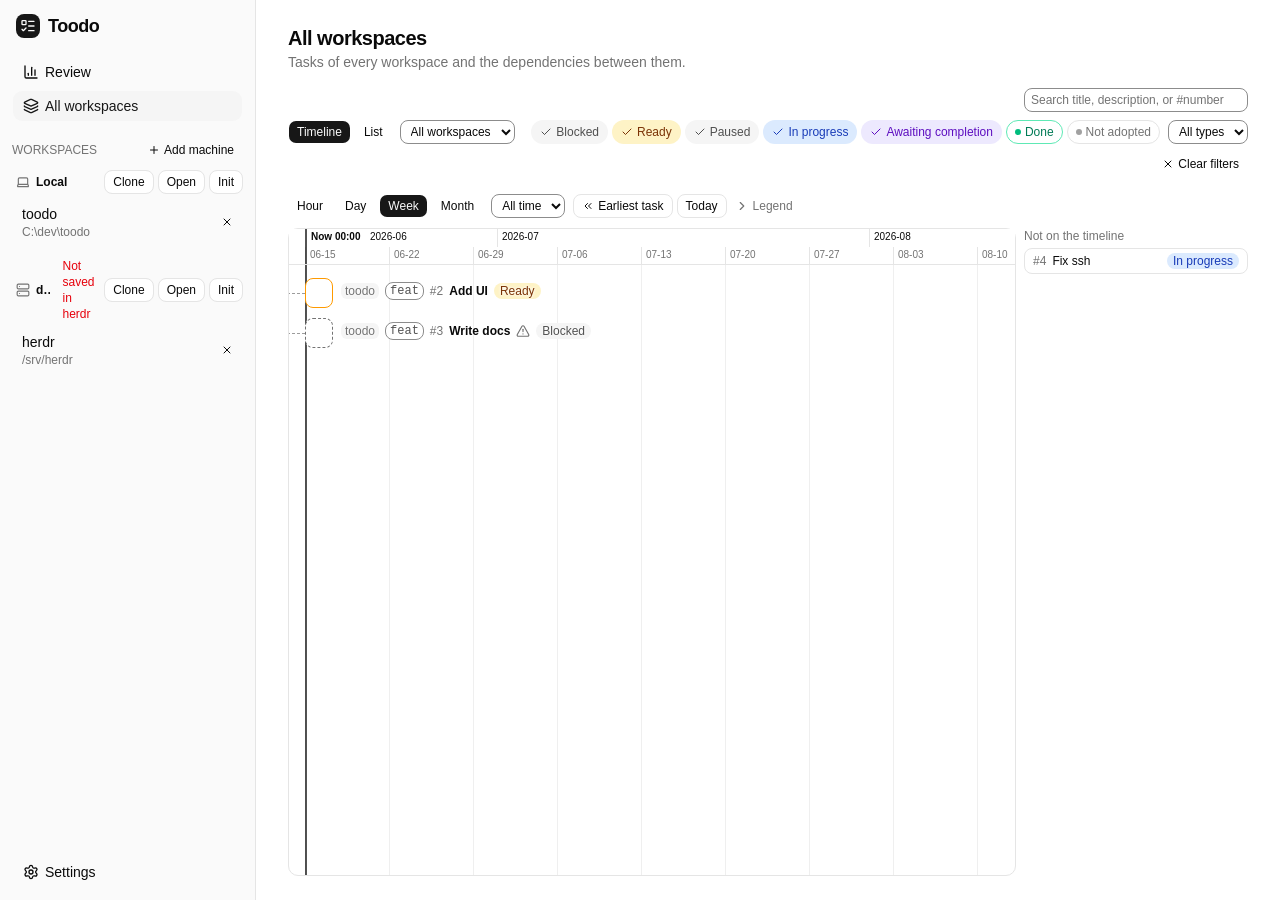
Test: App › filters the tasks that can be started now in the list and on the timeline
What coordinates should you click on to do the following:
click the button "toodo C:\\dev\\toodo"
I would click on:
 (114, 222)
Its box is [12,198,215,246].
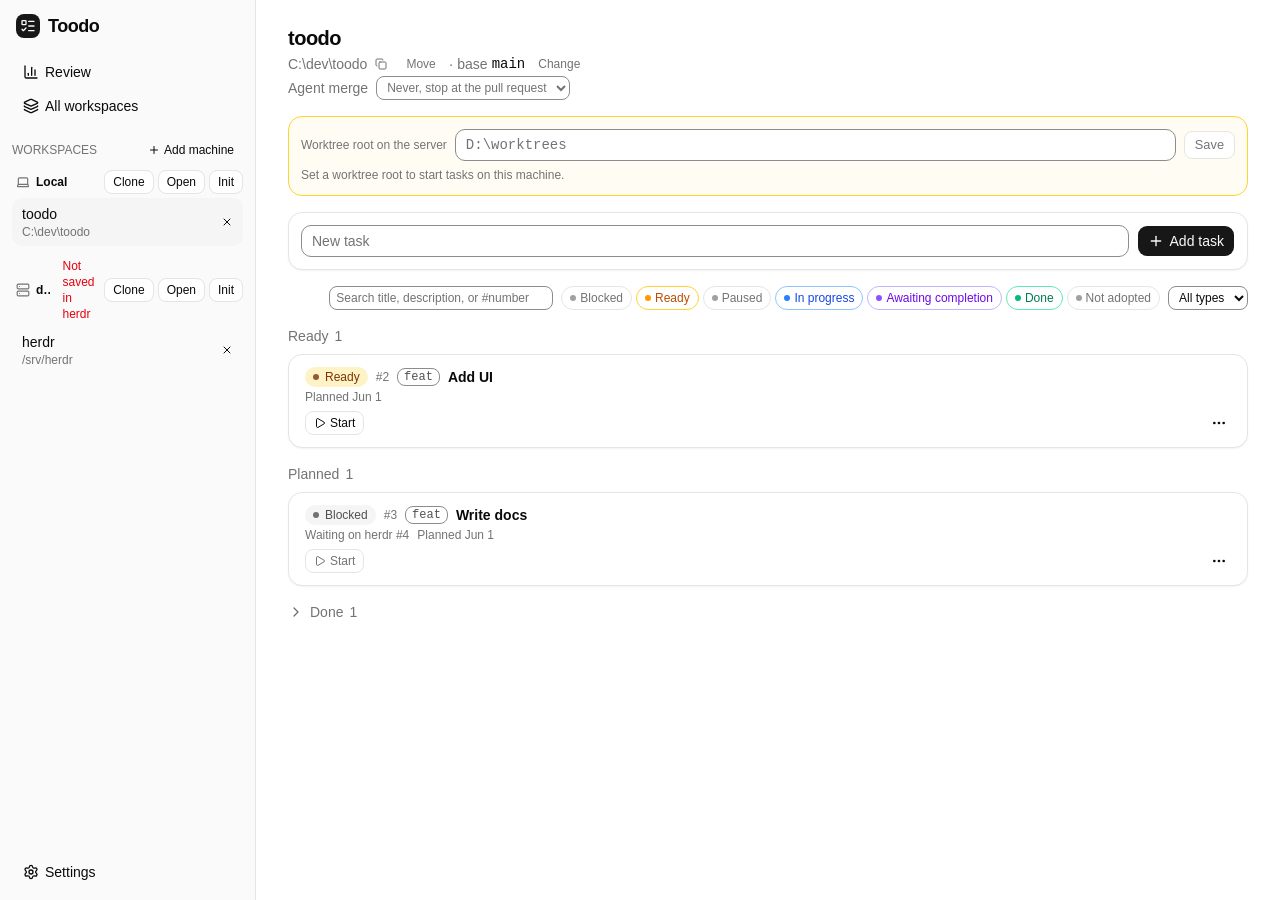
Expected: the button "Add UI" is shown, [448,367,1231,387]
Expected: the text "Ready" is shown, [305,367,368,387]
What coordinates should you click on to do the following:
click the button "Ready"
I would click on:
 (667, 298)
Its box is [636,286,699,310].
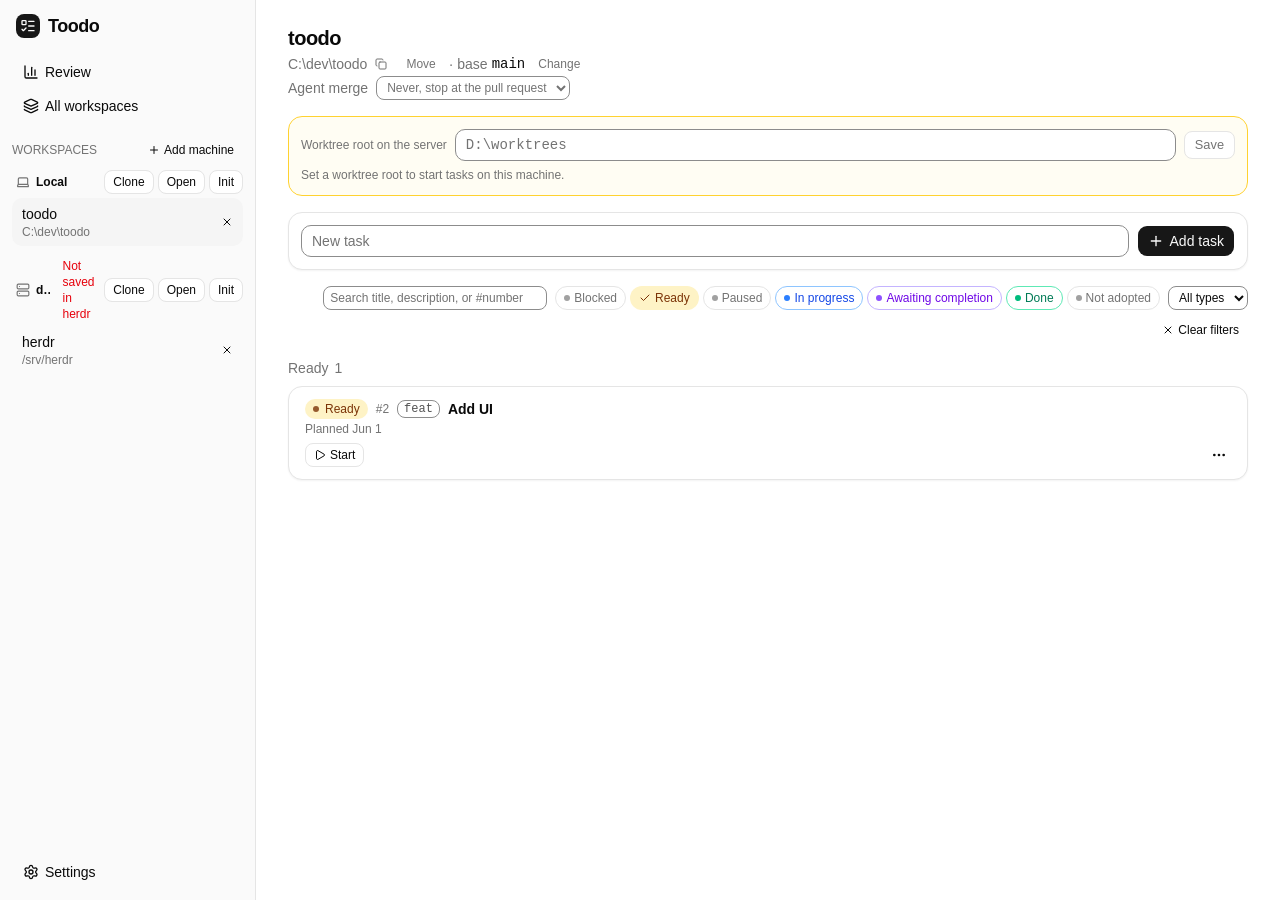
Expected: the button "Add UI" is shown, [448,399,1231,419]
What coordinates should you click on to do the following:
click the button "All workspaces"
I would click on:
 (128, 106)
Its box is [12,90,243,122].
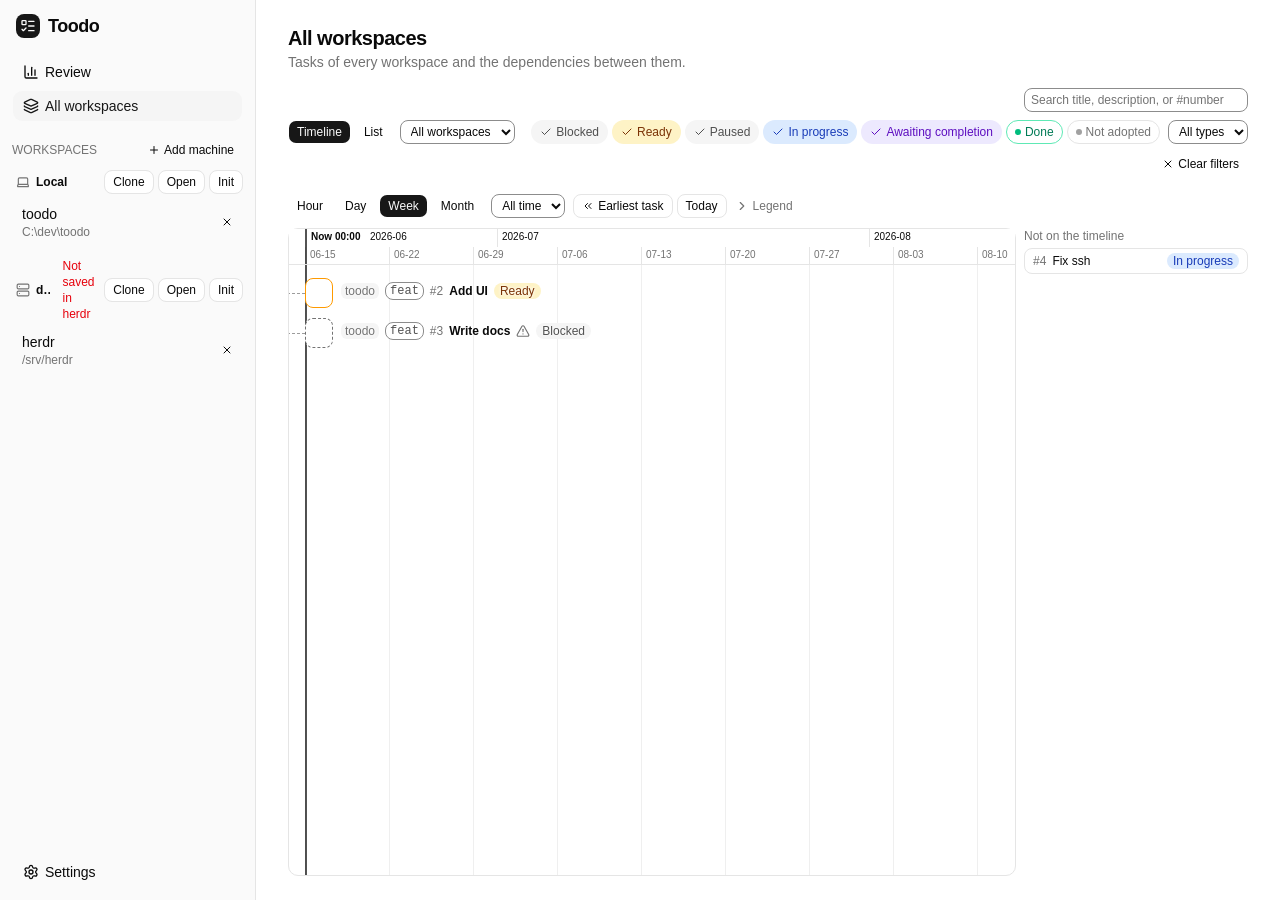
Expected: the text "Write docs" is shown, [449,323,510,339]
What coordinates should you click on to do the following:
click the button "Clear filters"
I would click on:
 (1201, 164)
Its box is [1153,152,1248,176].
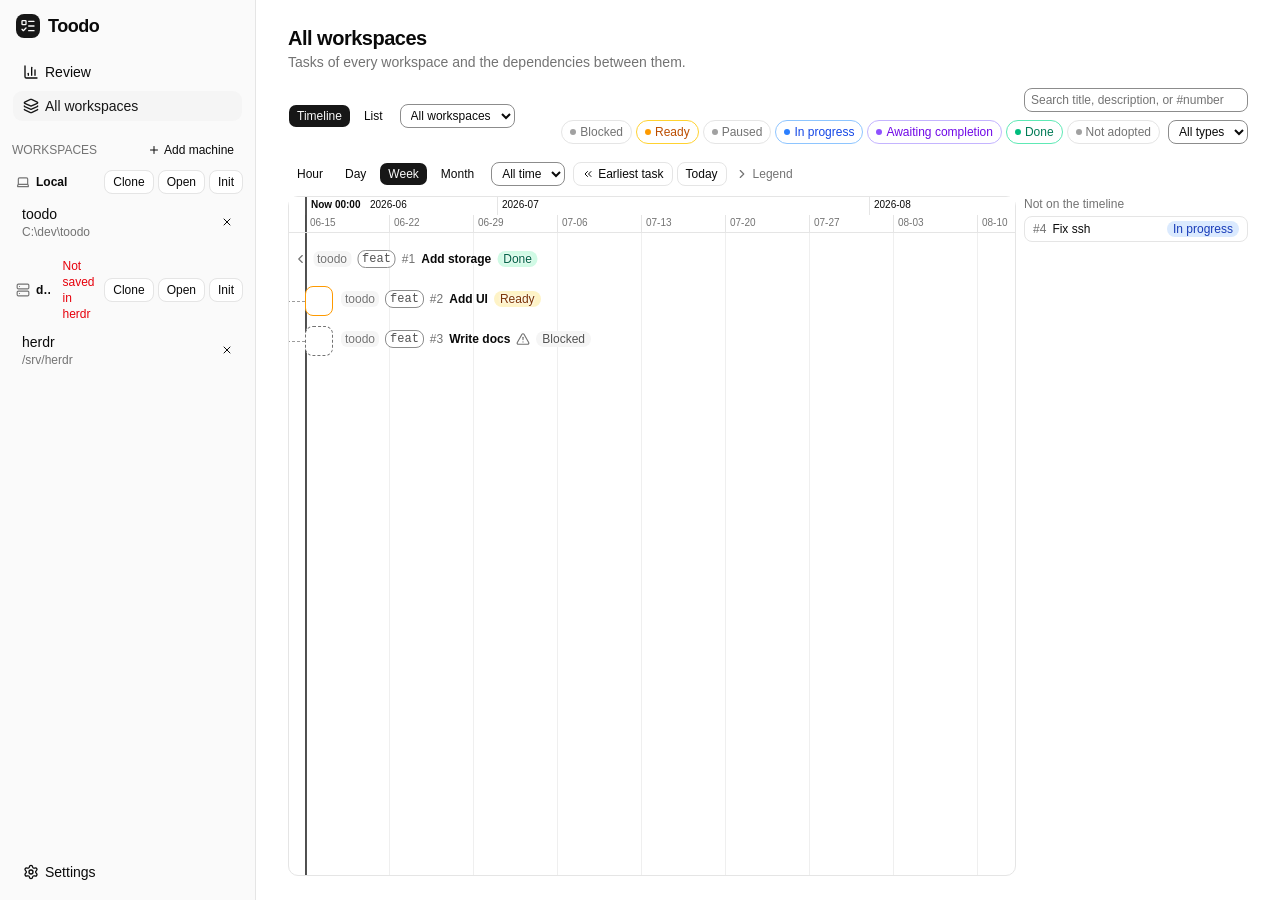
What coordinates should you click on to do the following:
click the button "Ready"
I would click on:
 (667, 132)
Its box is [636,120,699,144].
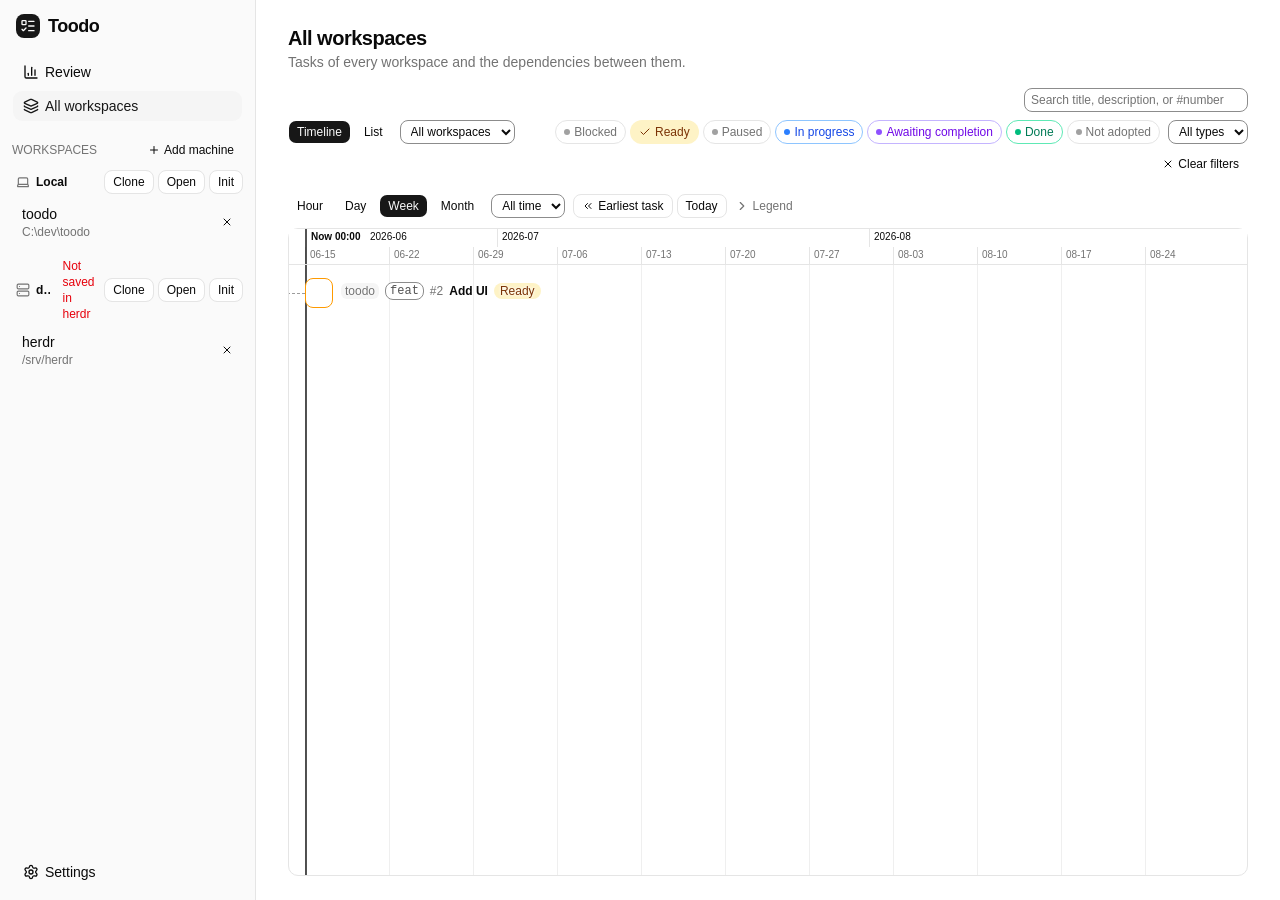
Expected: the text "Add UI" is shown, [449,283,488,299]
Expected: the text "Write docs" is gone
Expected: the text "Add storage" is gone
